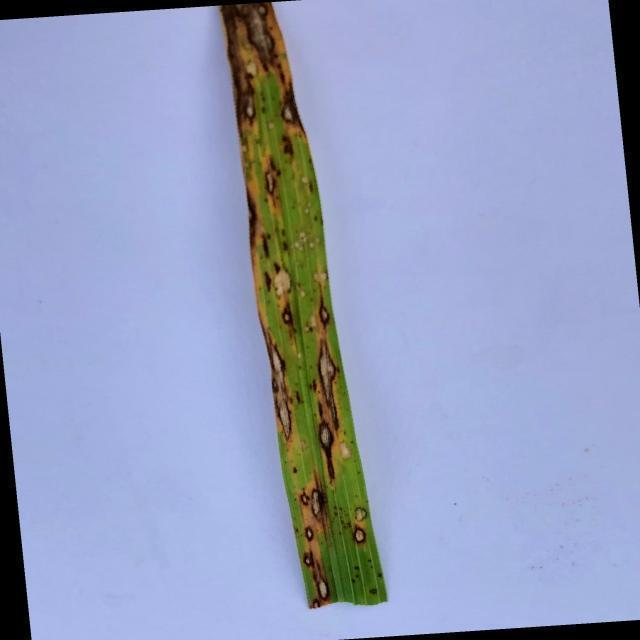Leaf_Blast: (257, 313, 292, 442), (235, 0, 279, 72), (319, 337, 340, 431), (315, 401, 337, 484), (243, 185, 259, 249), (311, 557, 332, 604), (271, 262, 294, 303), (310, 485, 328, 521), (242, 91, 259, 128), (263, 162, 281, 196), (318, 286, 331, 330), (279, 132, 298, 159), (281, 302, 297, 334), (257, 233, 274, 261), (282, 98, 297, 127), (243, 56, 261, 78), (352, 526, 370, 545), (338, 437, 352, 461), (354, 504, 370, 523), (302, 549, 316, 569), (302, 525, 317, 542), (298, 490, 311, 507), (262, 271, 272, 293), (310, 600, 322, 610)
